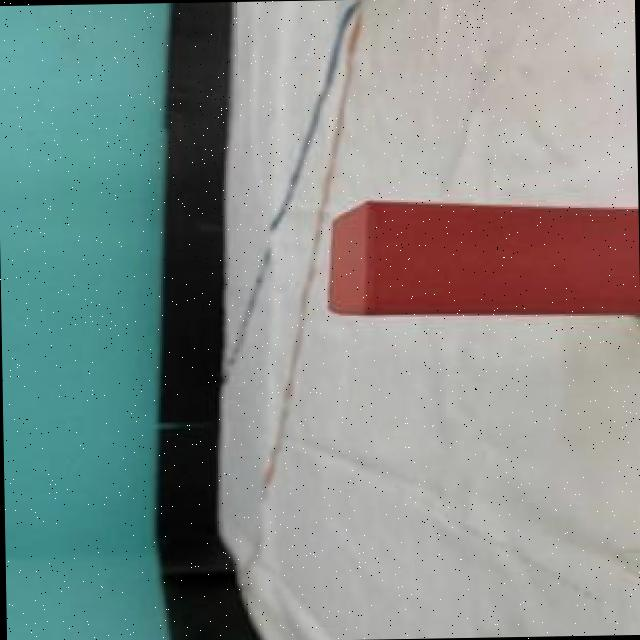redbox: (326, 204, 640, 320)
